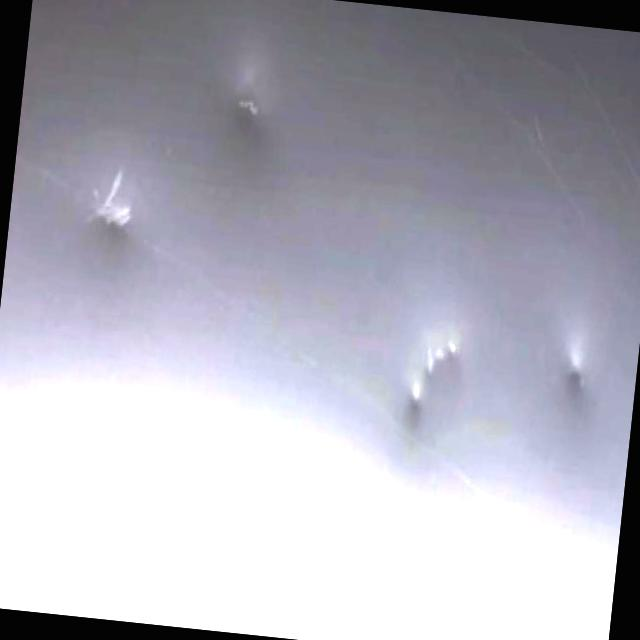dent: (363, 306, 474, 446), (216, 70, 284, 172), (540, 326, 608, 411), (100, 176, 156, 274)
